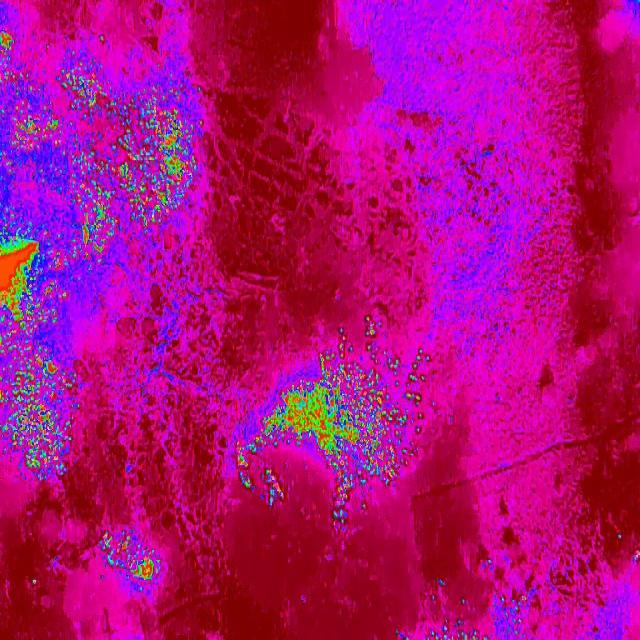fire: (0, 0, 107, 482), (236, 338, 434, 447), (106, 59, 208, 268), (94, 526, 166, 596), (323, 448, 411, 486), (237, 468, 286, 512), (331, 486, 366, 535), (418, 621, 495, 640)
